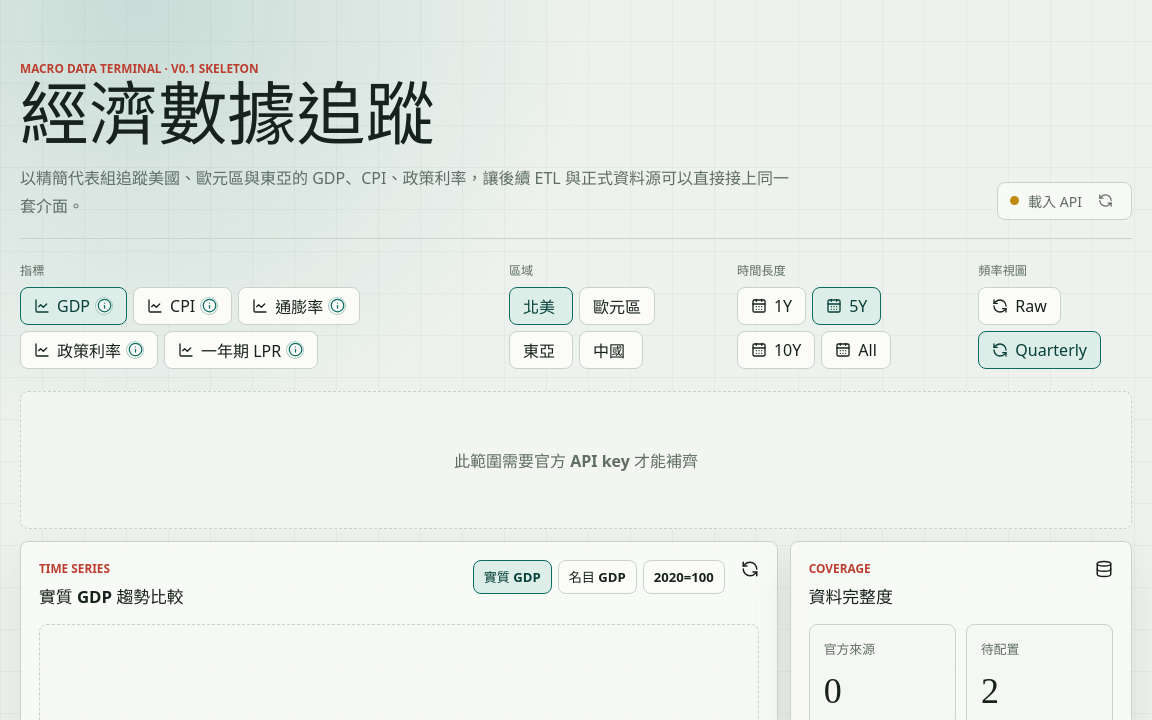
Test case: App › lets users switch GDP charts to a 2020 indexed comparison
This screenshot has width=1152, height=720.
Click the button "2020=100" at [684, 577], box [643,560,725,594]
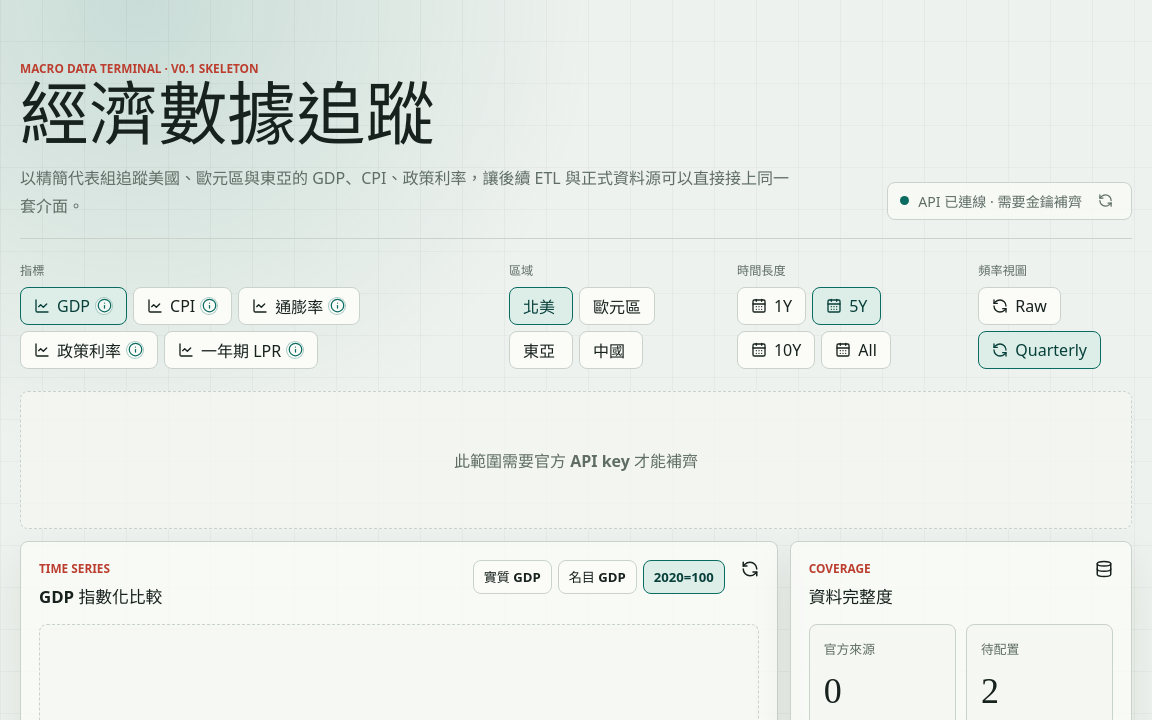
Result: the heading "GDP 指數化比較" is shown at [39,584,162,608]
